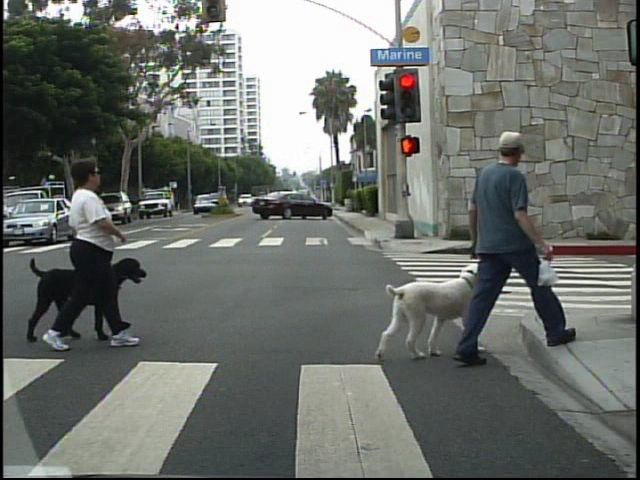person: (448, 117, 566, 367), (48, 150, 125, 354)
